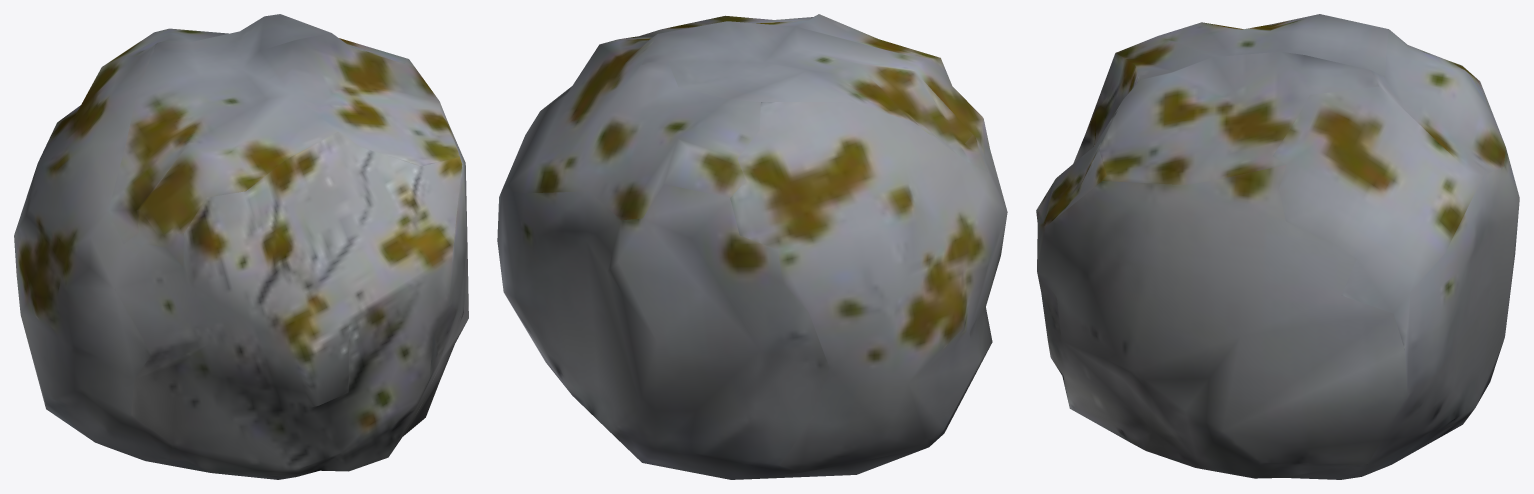
File: prop_rock.glb
3 views of the same model, side by side, from view 1: azimuth 30°, elevation 25°; view 2: azimuth 150°, elevation 25°; view 3: azimuth 270°, elevation 25° (orthographic). The views are drawn at different scales.
Visible parts, largest first — view 1: node_0; view 2: node_0; view 3: node_0.
Part boxes in pixels (bbox=[...]): node_0: bbox=[14, 14, 468, 479]; node_0: bbox=[497, 14, 1007, 479]; node_0: bbox=[1036, 14, 1519, 479].
Size of the model in its own units: 1.01 by 0.8551 by 0.9961.
Materials: 1 (1 with a texture image).
